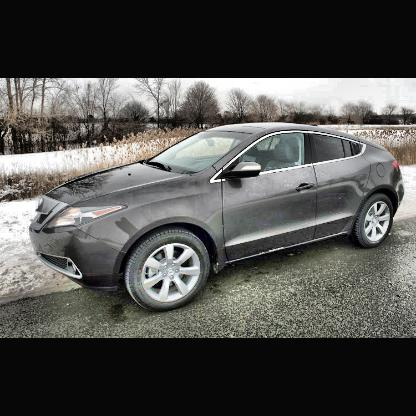Acura ZDX Hatchback 2012: (31, 123, 404, 312)
